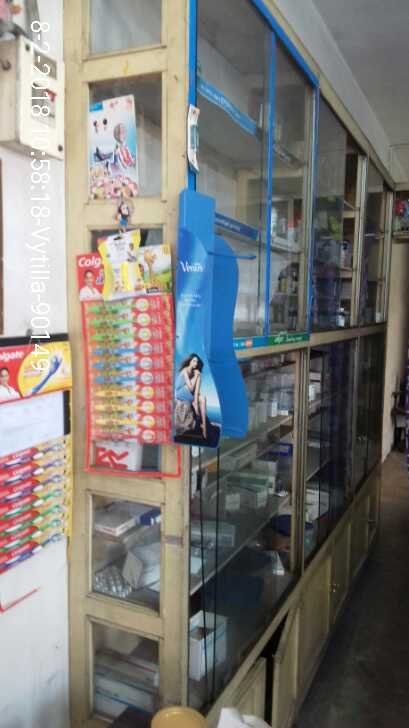reject: (129, 250, 280, 449)
